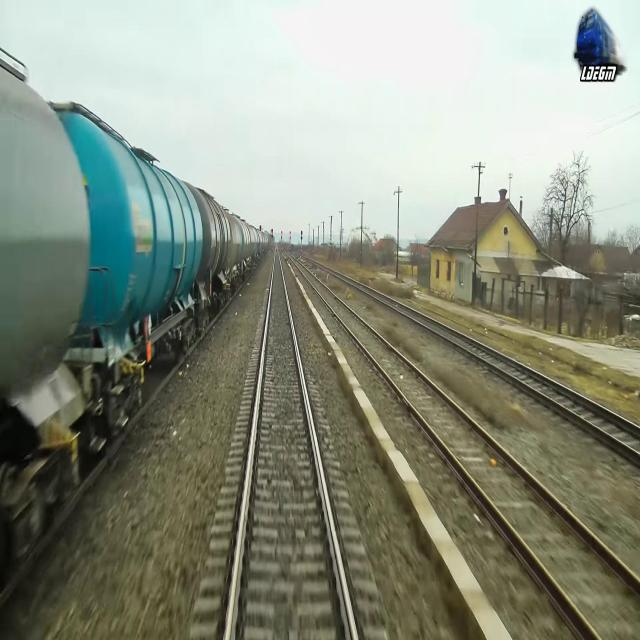rail-track: (288, 254, 640, 639), (326, 268, 640, 450), (229, 247, 353, 639)
